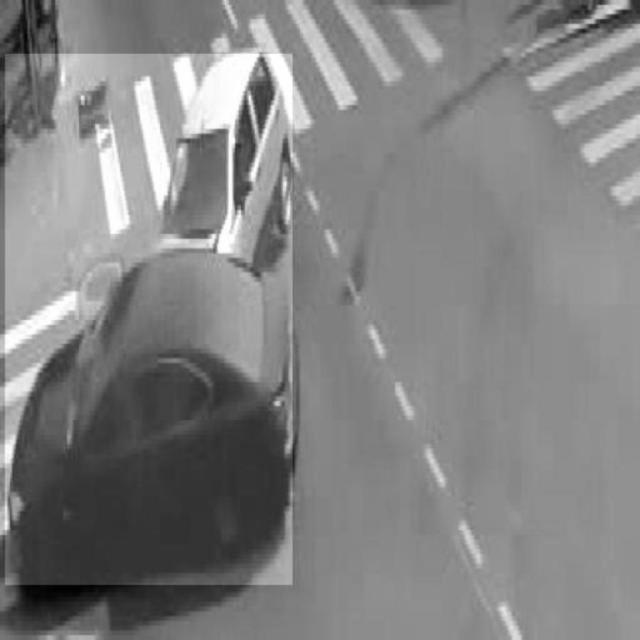accident: (5, 54, 293, 585)
